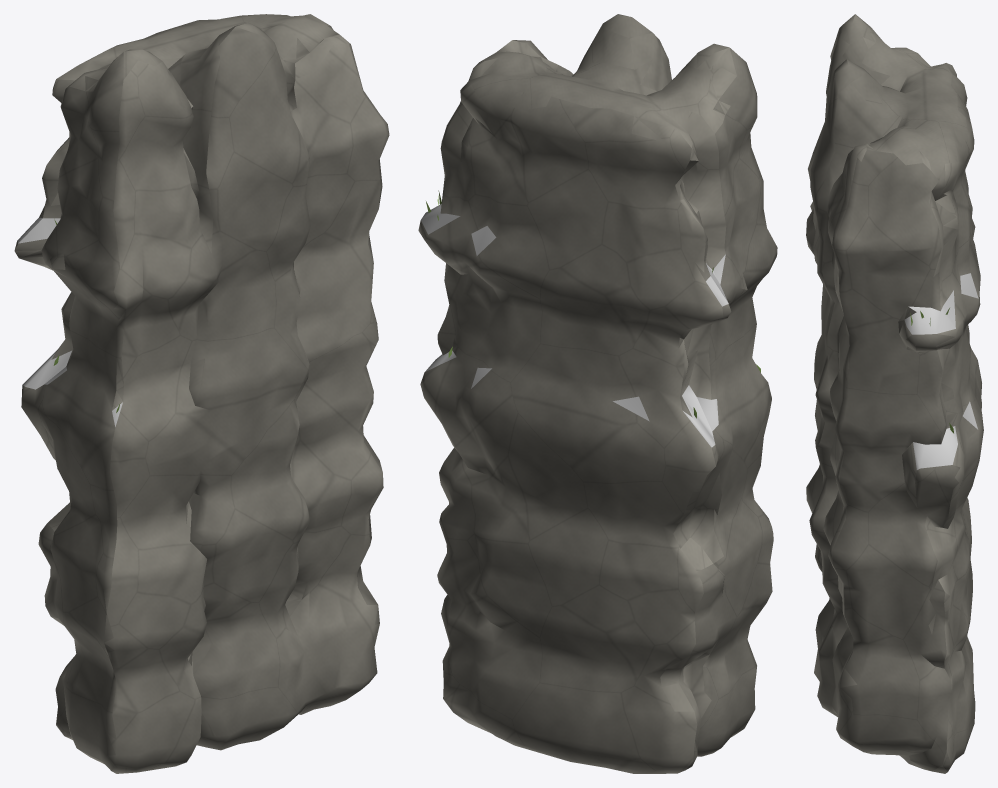
File: Furn_Cliff2_A.fbx
3 renders of one model, left to right at view 1: azimuth 30°, elevation 25°; view 2: azimuth 150°, elevation 25°; view 3: azimuth 270°, elevation 25°, orthographic. The views are drawn at different scales.
Visible parts, largest first — view 1: Furn_Cliff2_A; view 2: Furn_Cliff2_A; view 3: Furn_Cliff2_A.
Boxes of the visible parts, <box> form: Furn_Cliff2_A: <box>14,14,389,773</box>; Furn_Cliff2_A: <box>418,14,777,773</box>; Furn_Cliff2_A: <box>806,14,983,773</box>.
Bounding box in the file's own units: 10 × 20.94 × 5.
